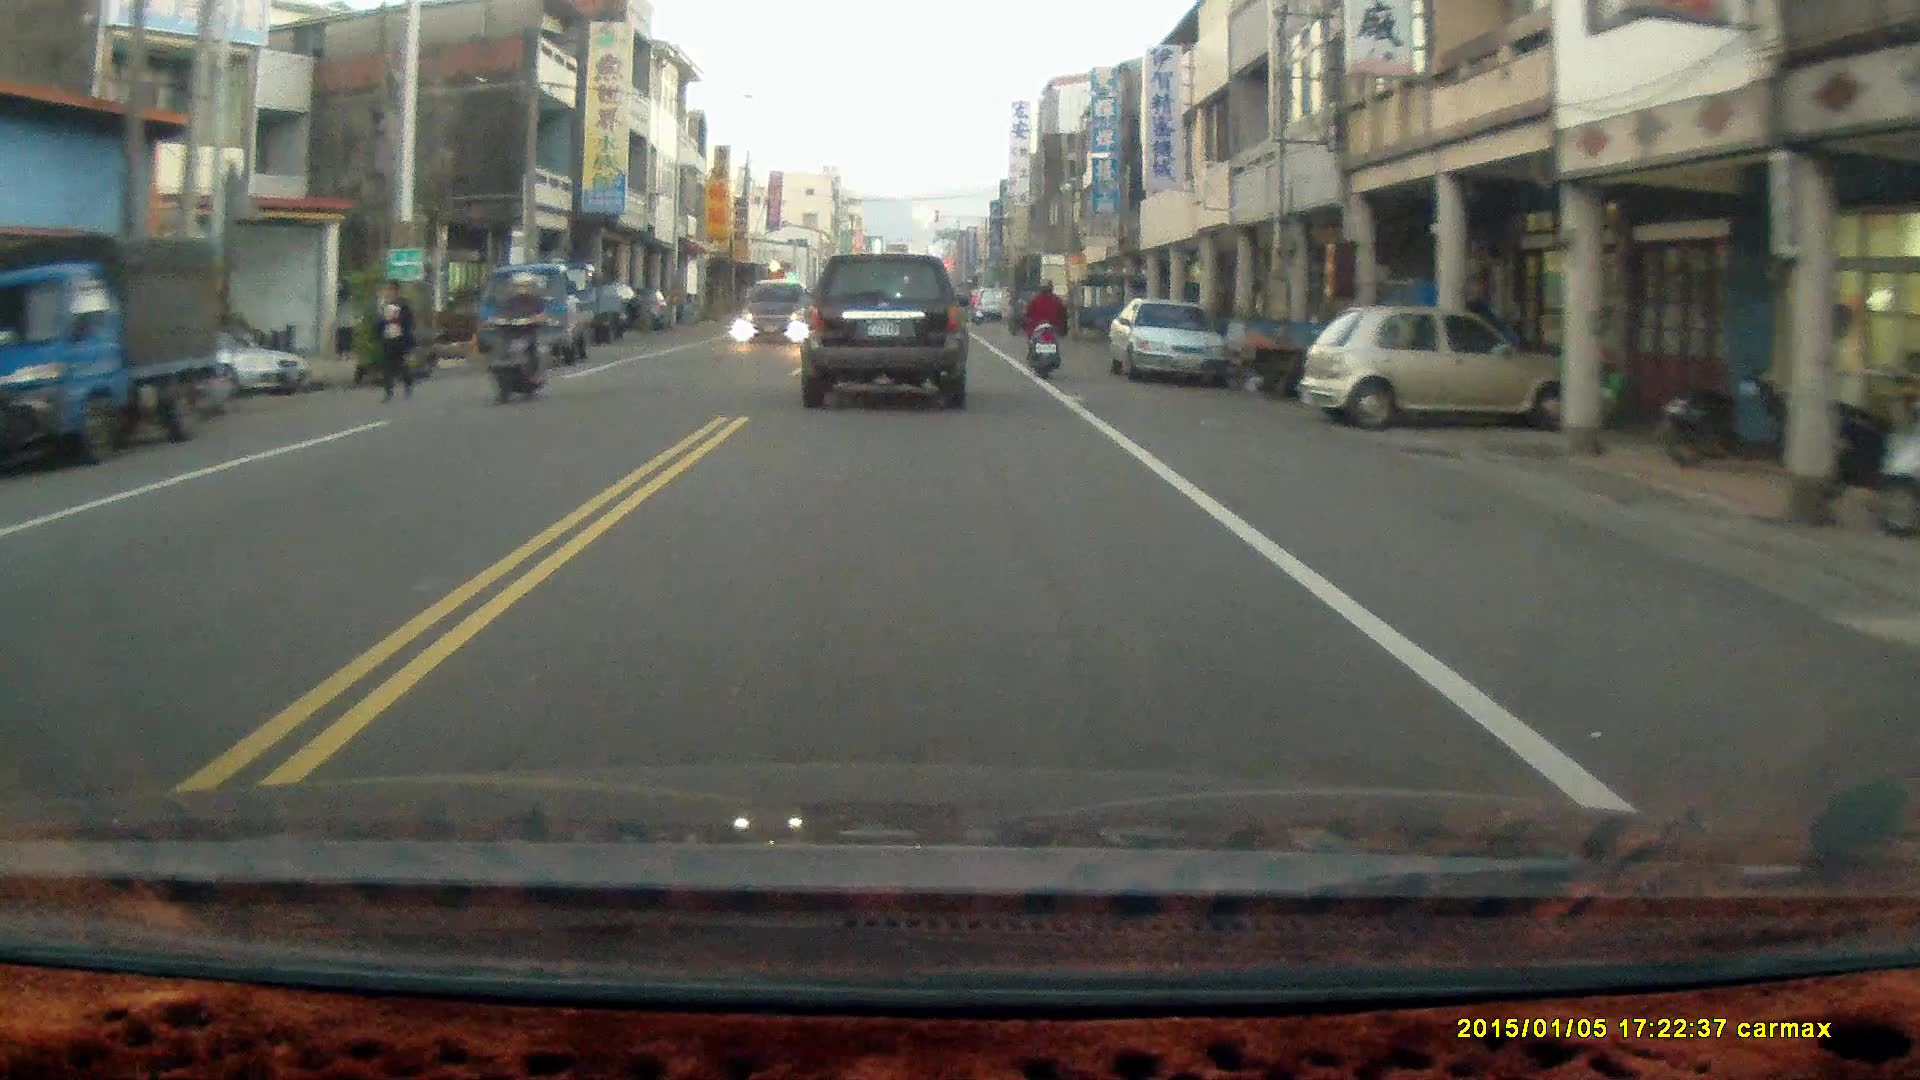pedestrian: (365, 273, 417, 406)
rider: (485, 267, 547, 407), (1024, 274, 1064, 375)
vehicle: (1, 231, 245, 473), (1303, 306, 1585, 429), (795, 250, 972, 413), (477, 265, 620, 369), (151, 317, 304, 399), (1110, 301, 1234, 385), (740, 279, 811, 346)
